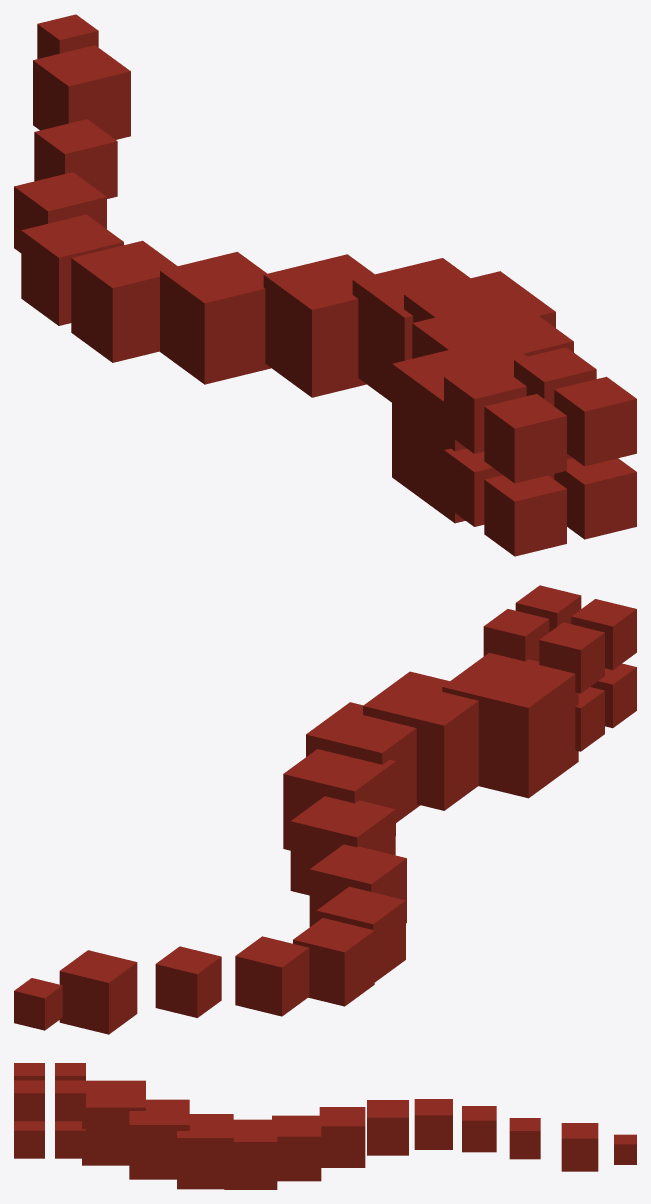
The model's file is wyrm_volcanic.obj.
3 views of the same model, one above another, from view 1: azimuth 30°, elevation 25°; view 2: azimuth 150°, elevation 25°; view 3: azimuth 270°, elevation 25° (orthographic). The views are drawn at different scales.
Parts seen in each view (by area): view 1: wyrm_volcanic; view 2: wyrm_volcanic; view 3: wyrm_volcanic.
Part boxes in pixels (x1=…): wyrm_volcanic: x1=14, y1=14, x2=636, y2=556; wyrm_volcanic: x1=14, y1=585, x2=636, y2=1034; wyrm_volcanic: x1=14, y1=1063, x2=636, y2=1189.
Size of the model in its own units: 1.7 by 1.07 by 6.82.
